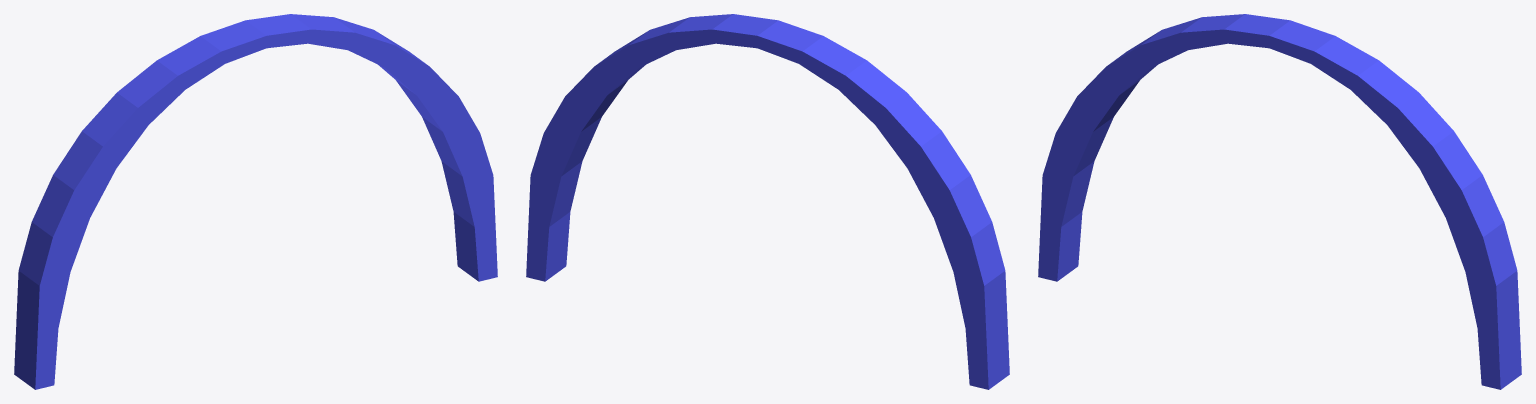
The model's file is Spawnpoint.fbx.
3 renders of one model, left to right at view 1: azimuth 30°, elevation 25°; view 2: azimuth 150°, elevation 25°; view 3: azimuth 330°, elevation 25°, orthographic.
Visible parts, largest first — view 1: Cylinder; view 2: Cylinder; view 3: Cylinder.
Boxes of the visible parts, <box> form: Cylinder: <box>14,14,497,389</box>; Cylinder: <box>526,14,1009,389</box>; Cylinder: <box>1038,14,1521,389</box>.
Bounding box in the file's own units: 1518 × 934 × 120.
